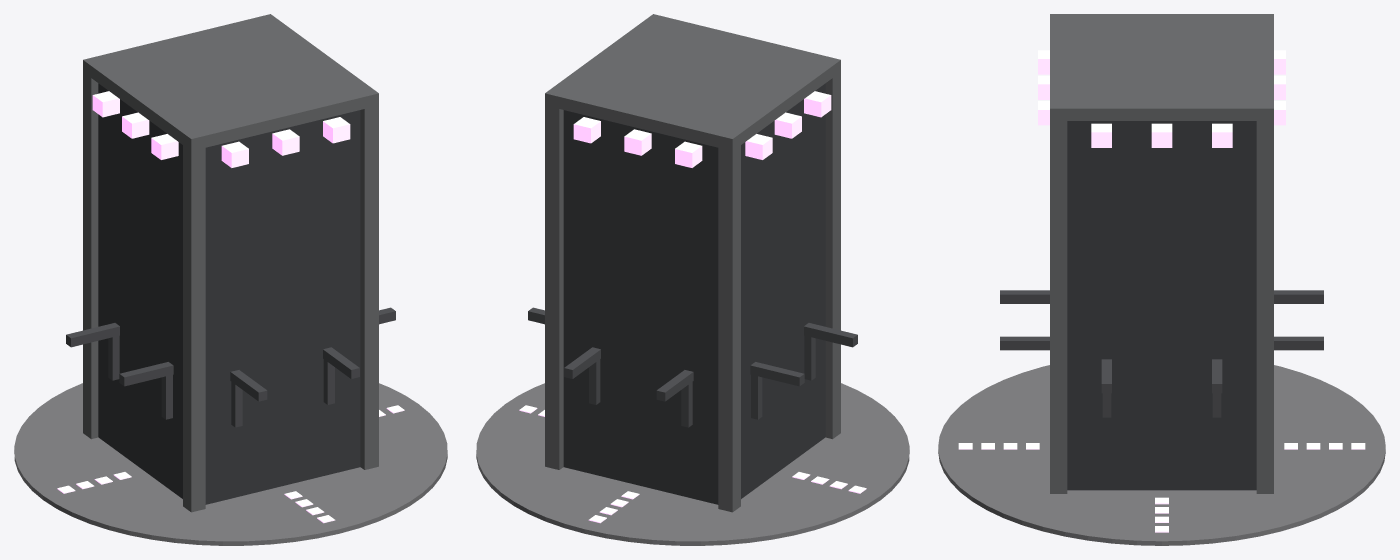
The model's file is SM_TD2_CarouselColumn.gltf.
3 renders of one model, left to right at view 1: azimuth 30°, elevation 25°; view 2: azimuth 150°, elevation 25°; view 3: azimuth 270°, elevation 25°, orthographic. The views are drawn at different scales.
Parts seen in each view (by area): view 1: SM_TD2_CarouselColumn; view 2: SM_TD2_CarouselColumn; view 3: SM_TD2_CarouselColumn.
Boxes of the visible parts, x1=… form: SM_TD2_CarouselColumn: x1=14, y1=14, x2=447, y2=545; SM_TD2_CarouselColumn: x1=476, y1=14, x2=909, y2=545; SM_TD2_CarouselColumn: x1=938, y1=14, x2=1385, y2=545.
Bounding box in the file's own units: 2.6 × 2.5 × 2.6.
